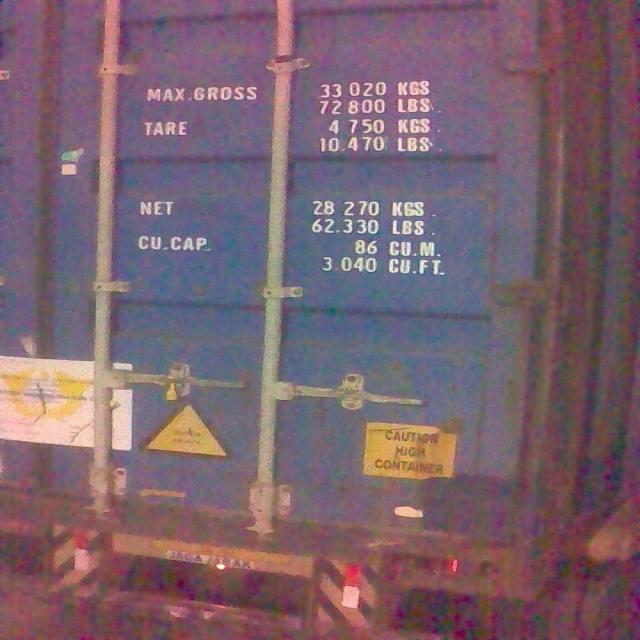seal: (160, 368, 180, 402)
